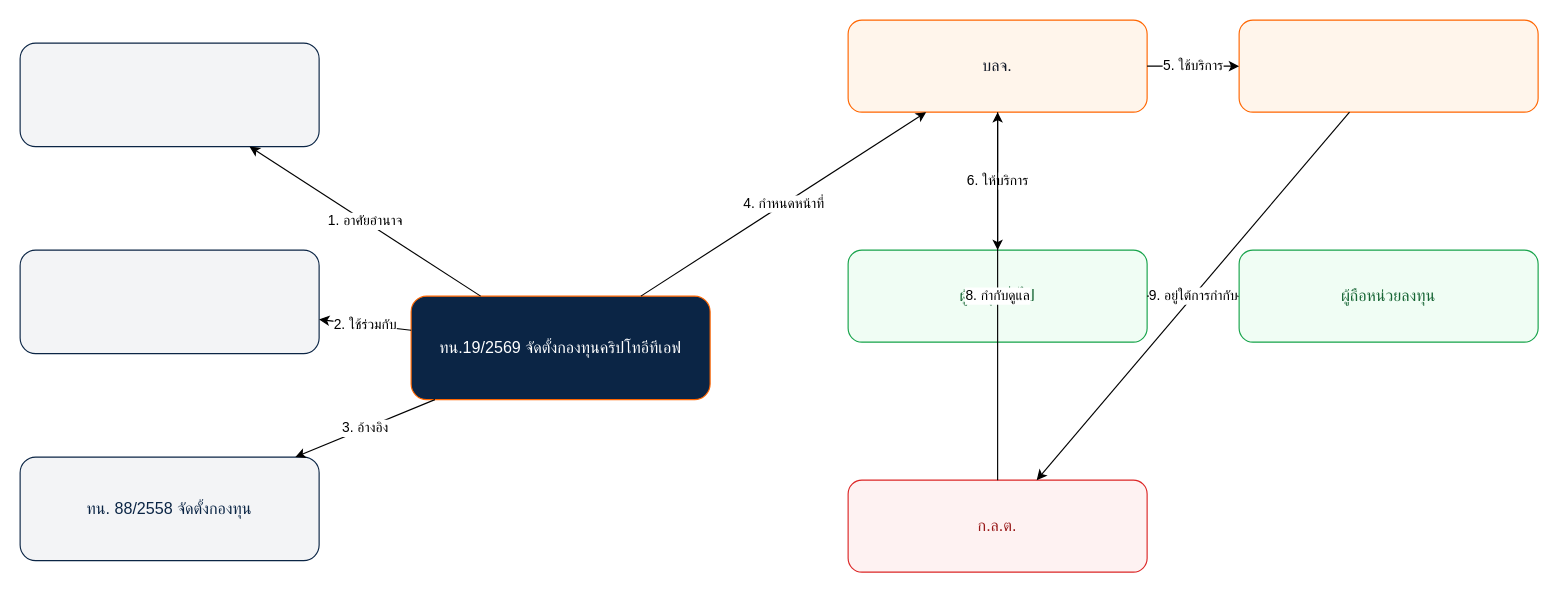
Some shapes in this 1558 by 592 pixel diagram are drawn without their labels. The shapes that lost their labels are listed below. From the top down, each one's centre as x and y in pixels, then its label:
At pixel 1388 65: "DA Custodian / ผู้ให้บริการ".
At pixel 169 94: "ทน. 20/2569 การลงทุนของกองทุน".
At pixel 169 301: "พ.ร.ก.ธุรกิจสินทรัพย์ดิจิทัล".
